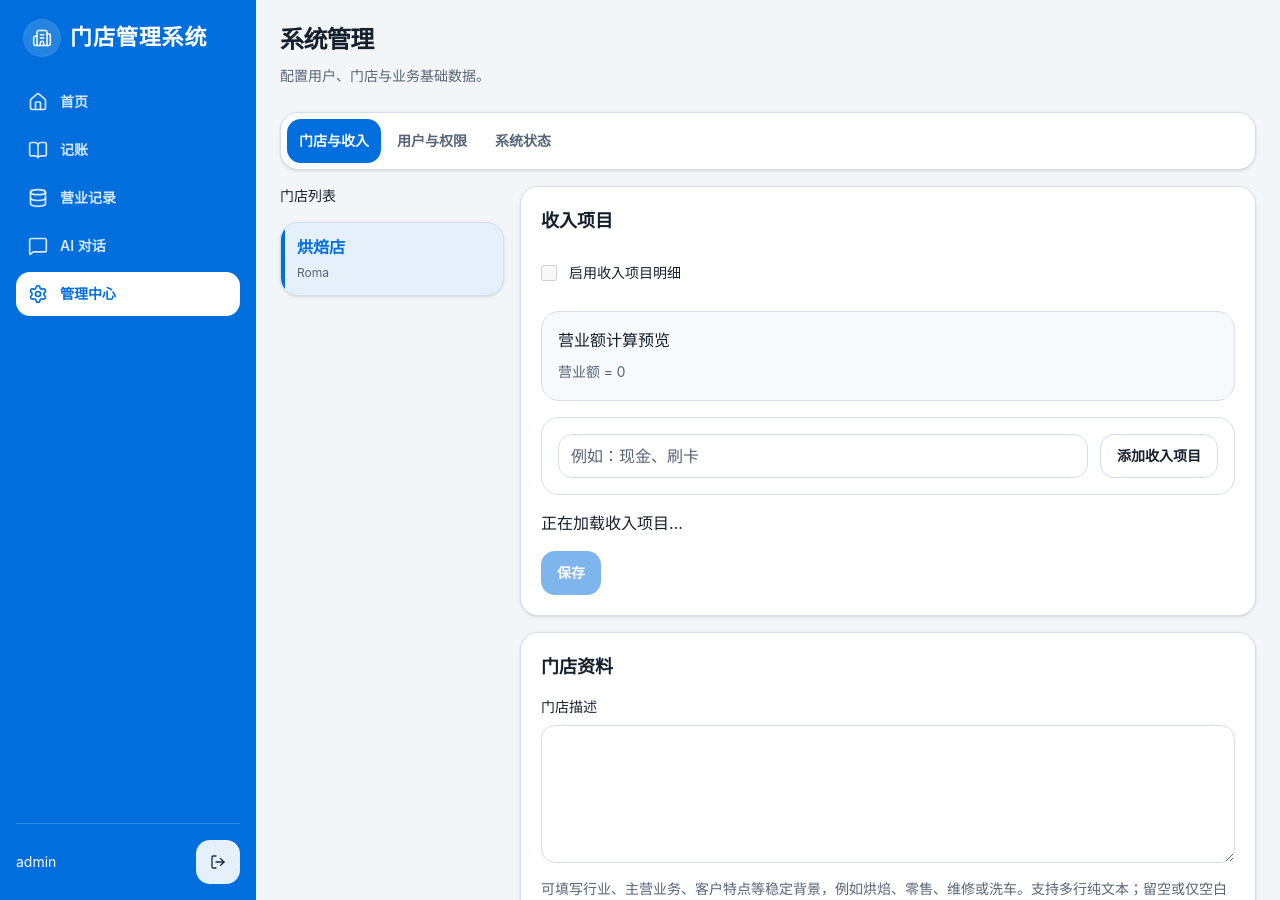
Test: authenticated application shell › protects a description draft before logout and after a 503 result
Type "尚未保存的行业背景" into the text box labelled "门店描述" at (888, 794), box [541, 725, 1235, 863]
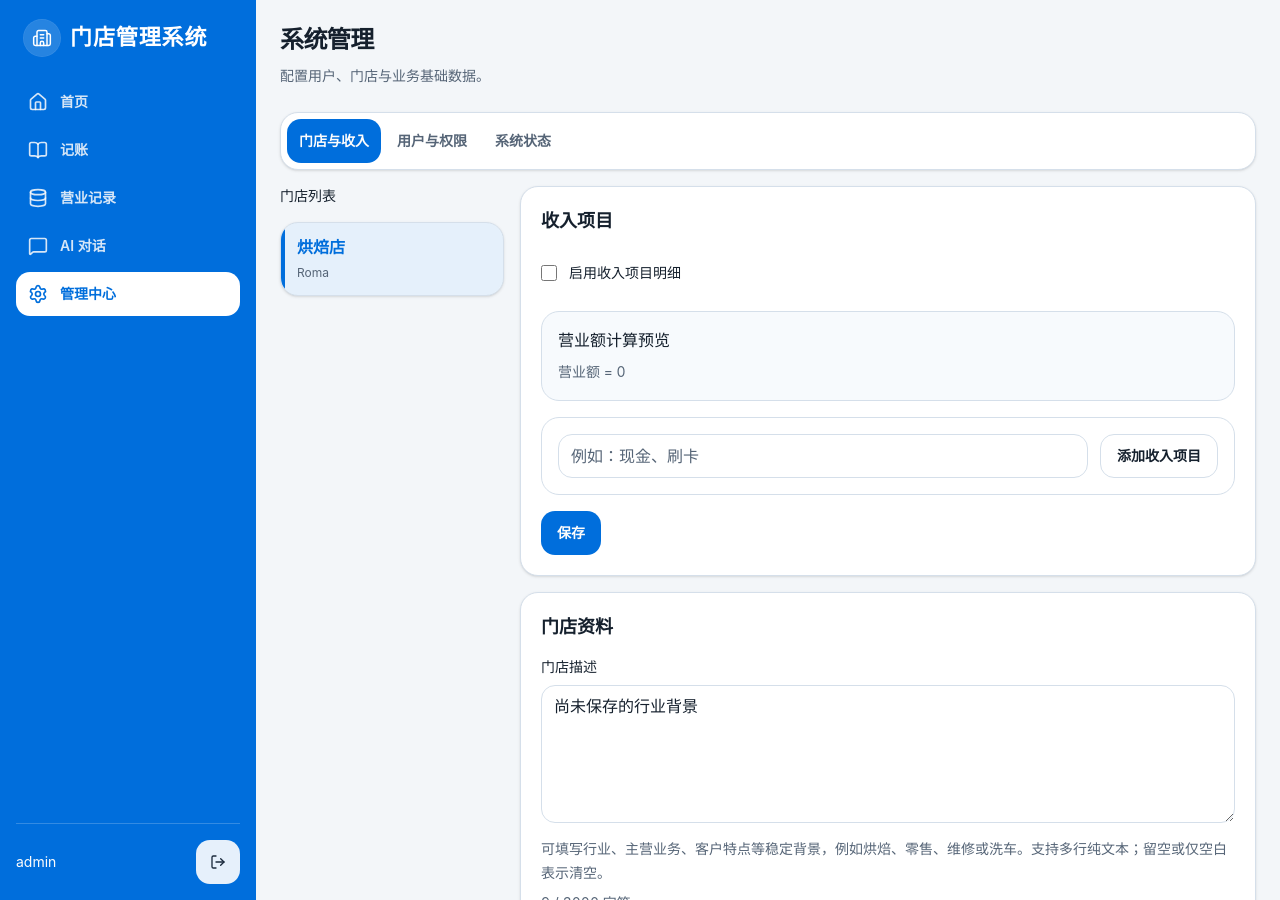
Click the button named "退出登录" at (218, 862), box [196, 840, 240, 884]
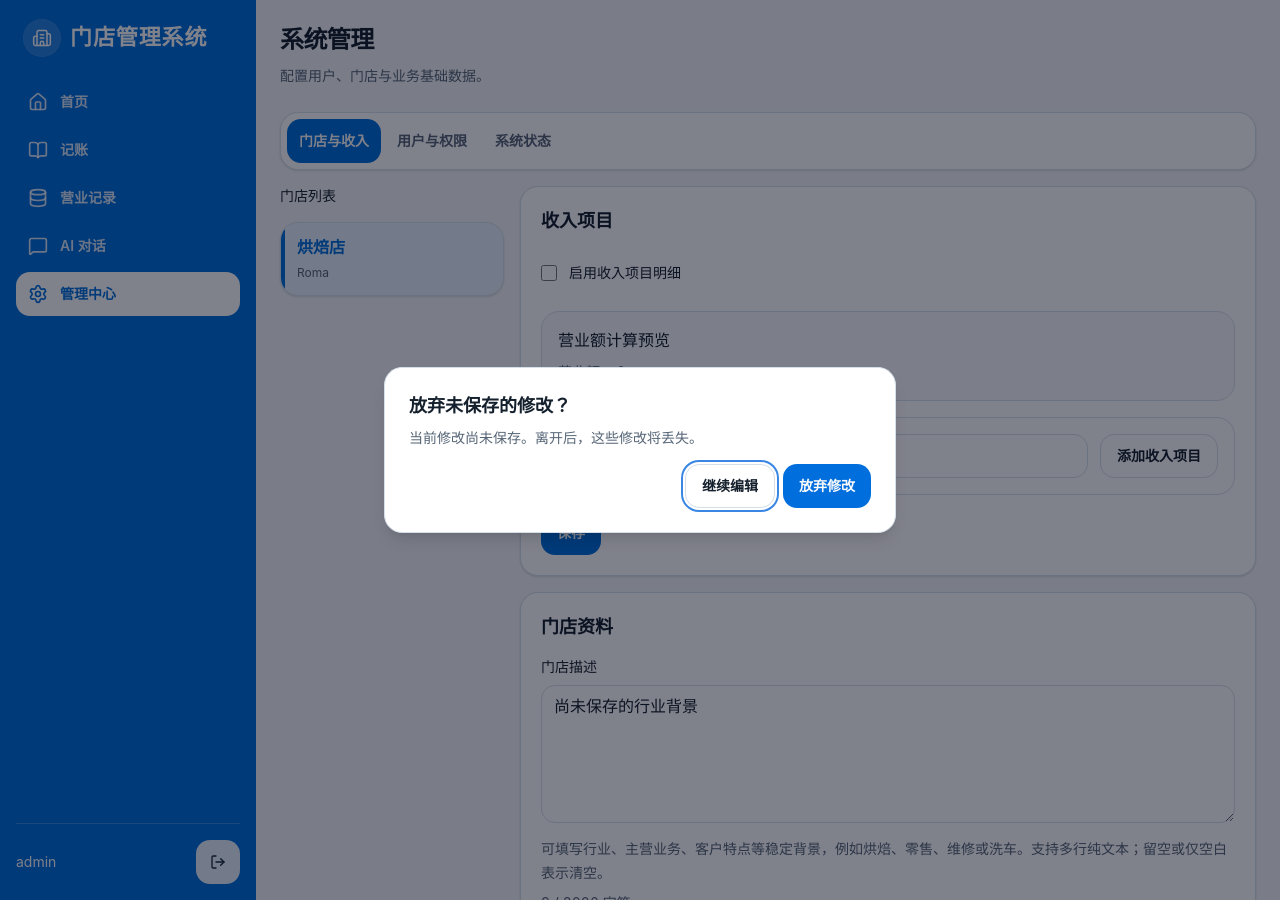
Click the button "继续编辑" at (730, 486), box [685, 464, 775, 508]
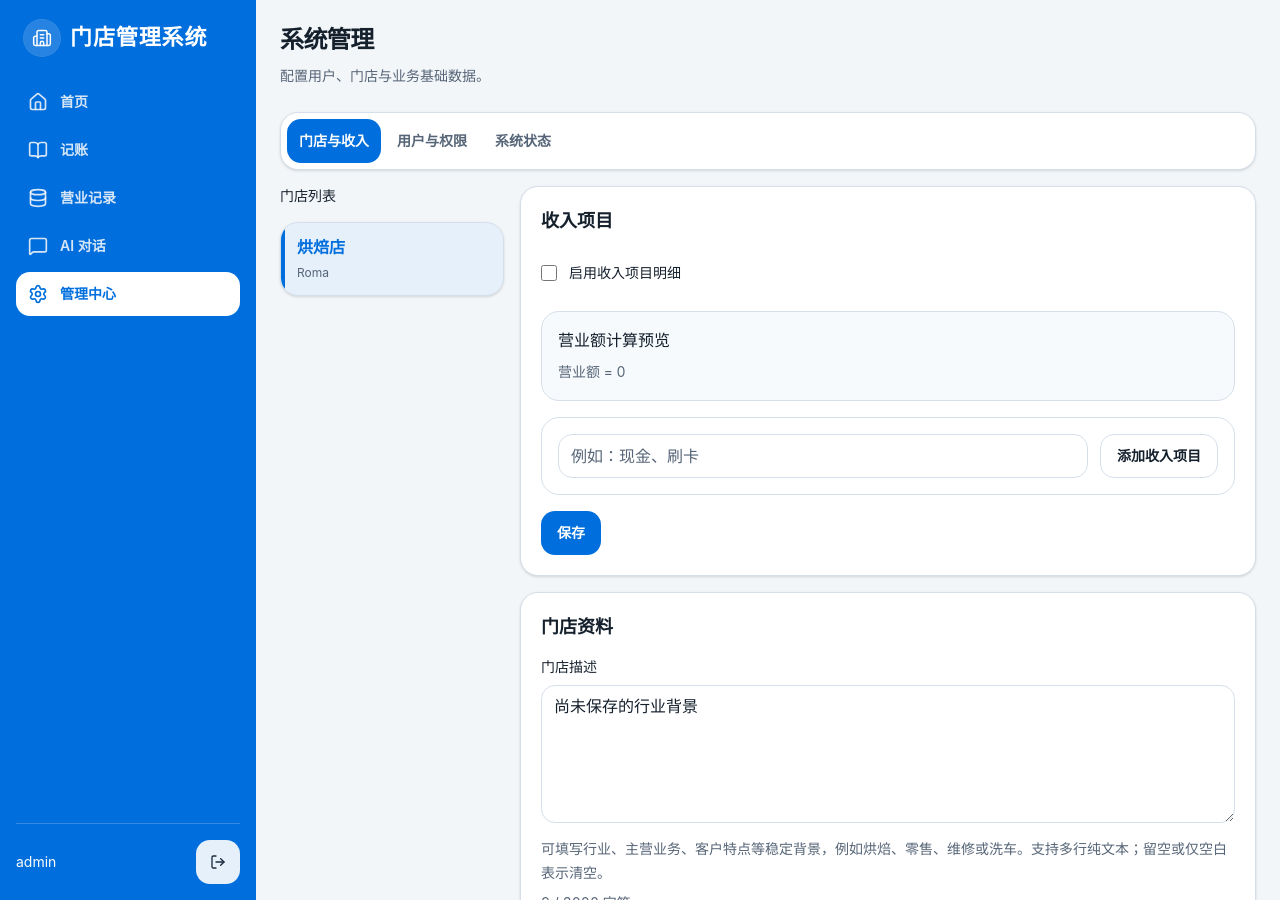
Click the button named "退出登录" at (218, 862), box [196, 840, 240, 884]
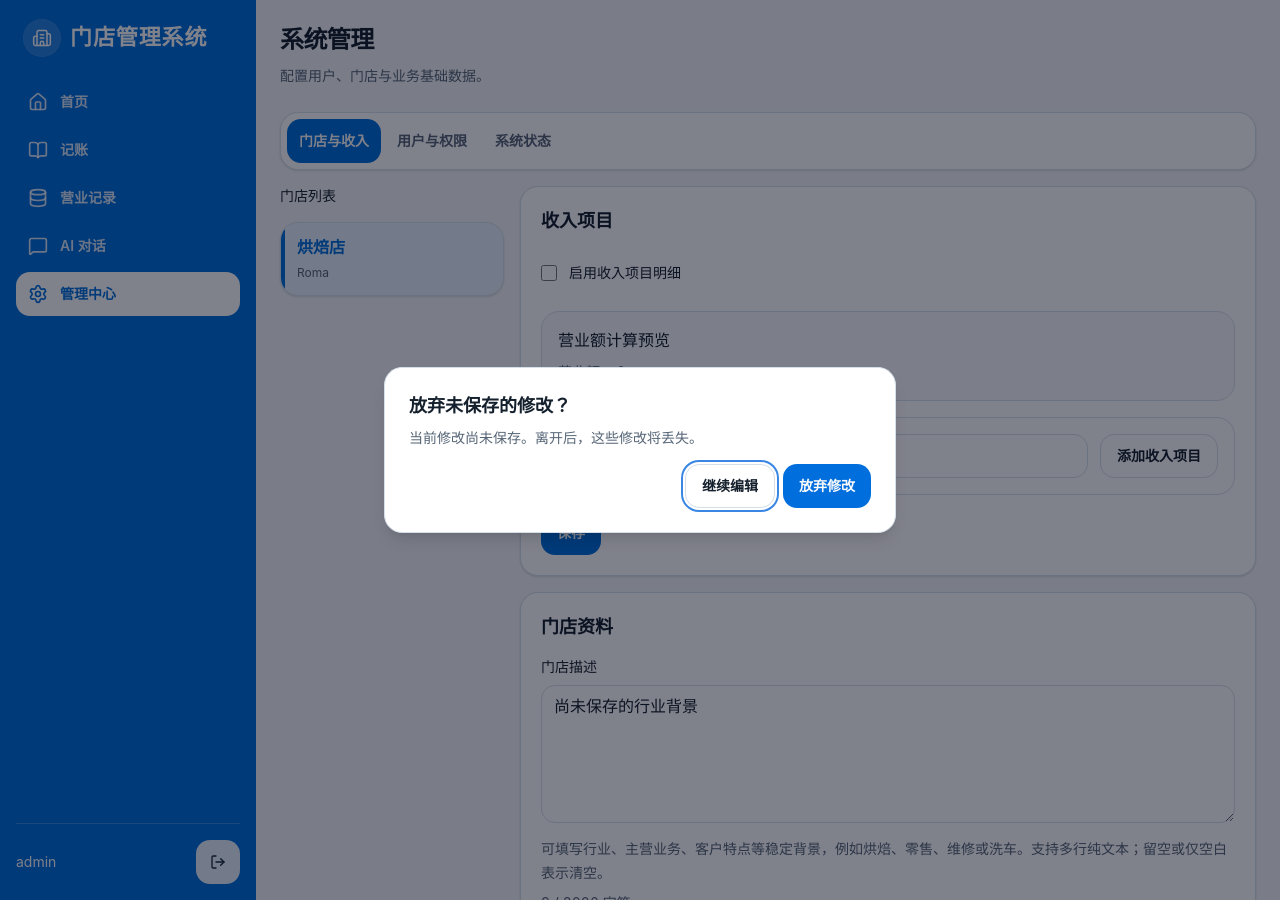
Click the button "放弃修改" at (827, 486), box [783, 464, 871, 508]
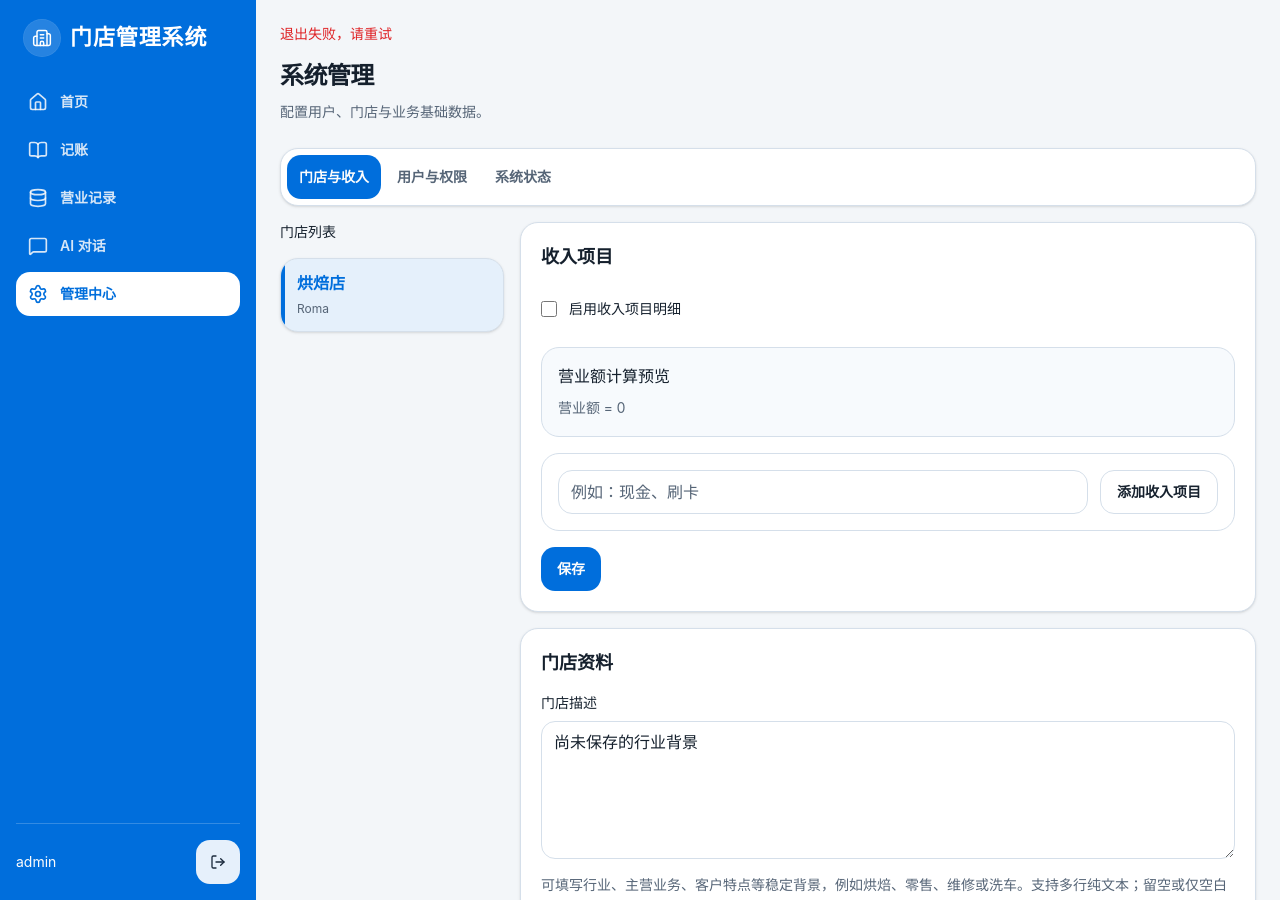
Check: the text "退出失败，请重试" is shown, box [280, 25, 392, 42]
Click the link "首页" at (58, 102), box [28, 92, 88, 112]
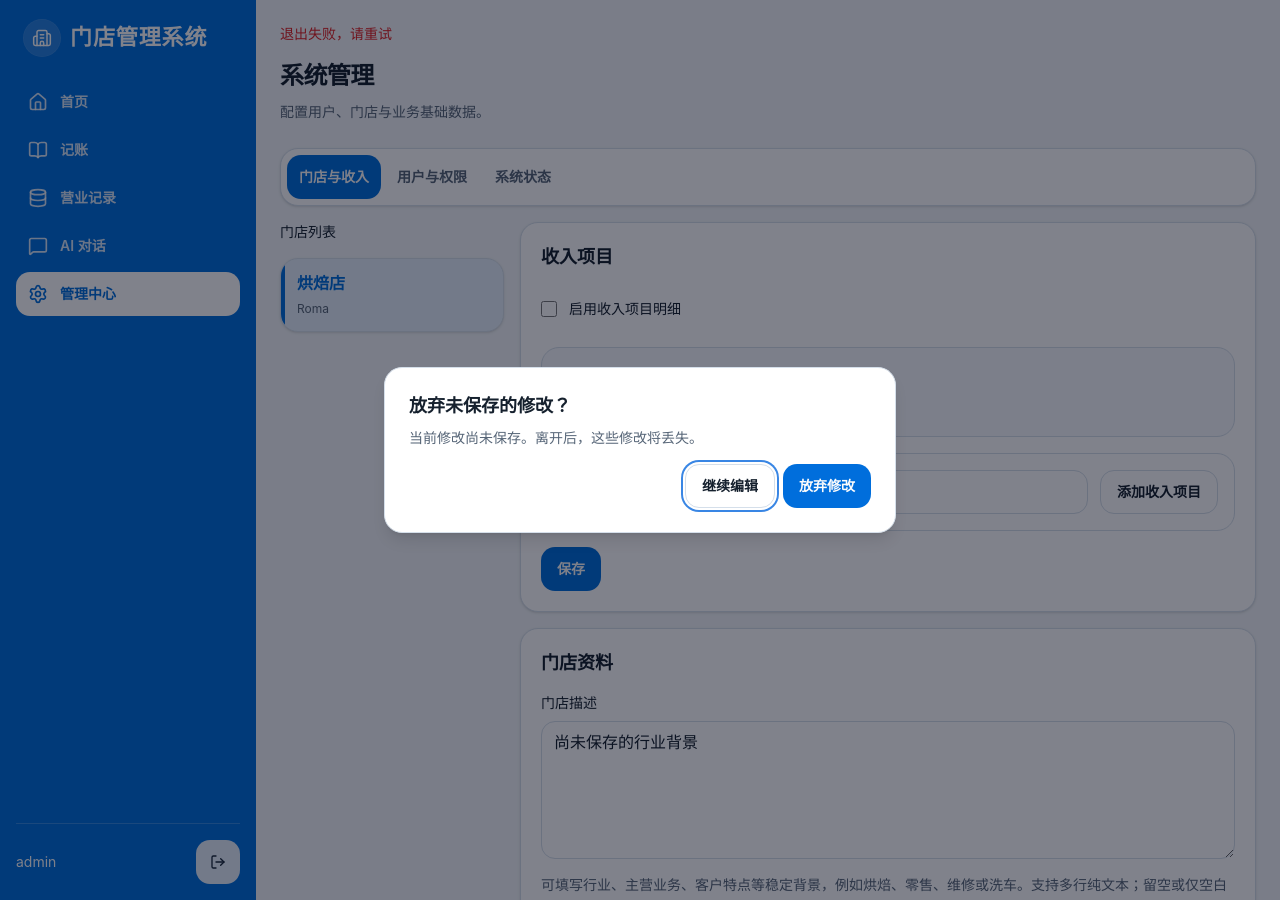
Check: the dialog "放弃未保存的修改？" is shown, box [384, 367, 896, 533]
